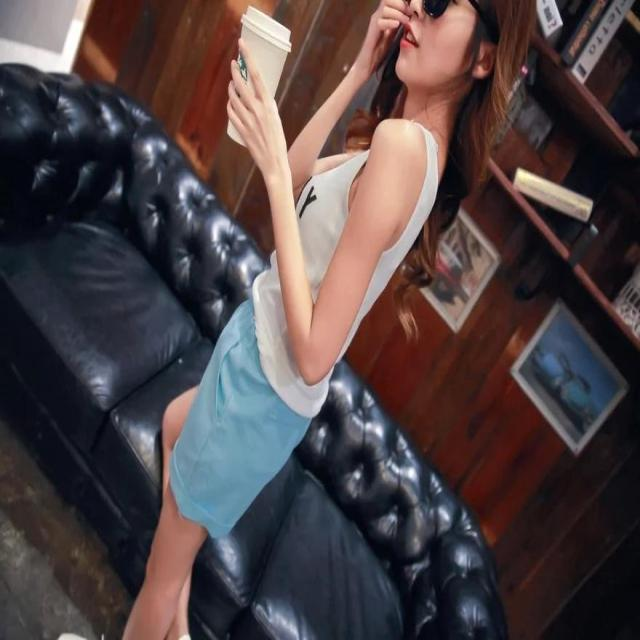shorts: (172, 289, 321, 538)
vest: (252, 134, 433, 418)
